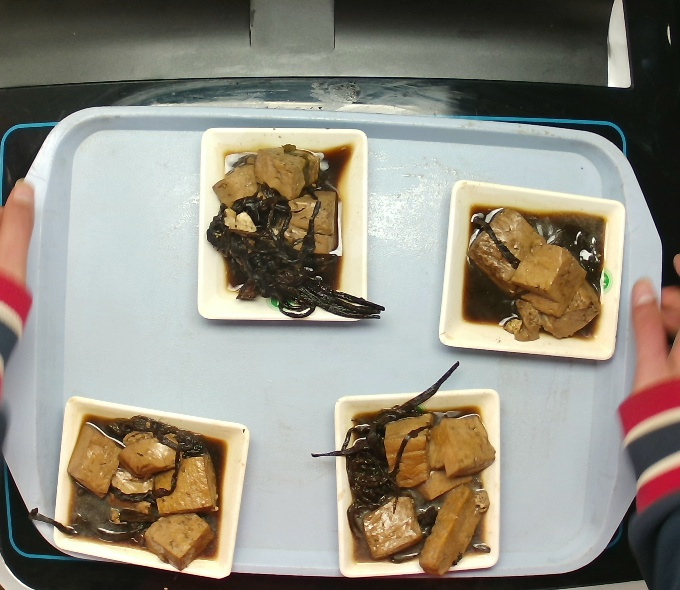wcq-CaiLuDouFu: (330, 382, 493, 576), (53, 406, 232, 573), (212, 130, 360, 318), (454, 198, 614, 348)
